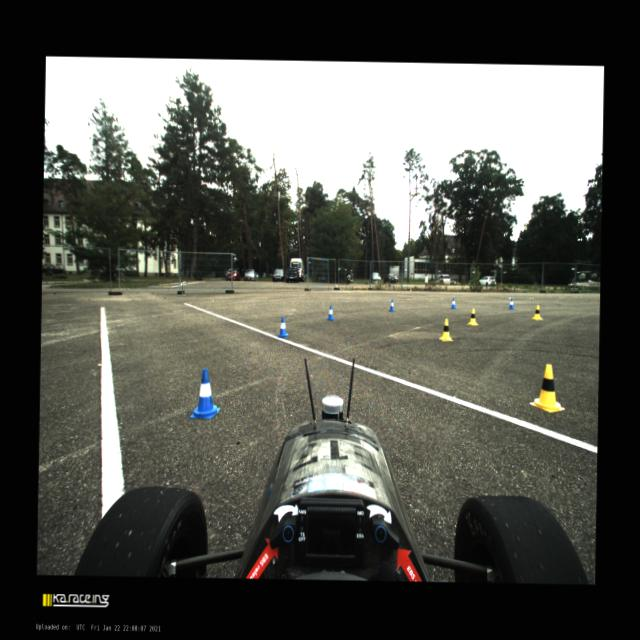blue_cone: (190, 368, 220, 418), (278, 316, 288, 338), (326, 304, 334, 320), (388, 299, 396, 312), (508, 298, 515, 310), (450, 298, 456, 308)
yellow_cone: (529, 363, 565, 412), (438, 318, 454, 341), (466, 308, 478, 324), (532, 305, 542, 320)
